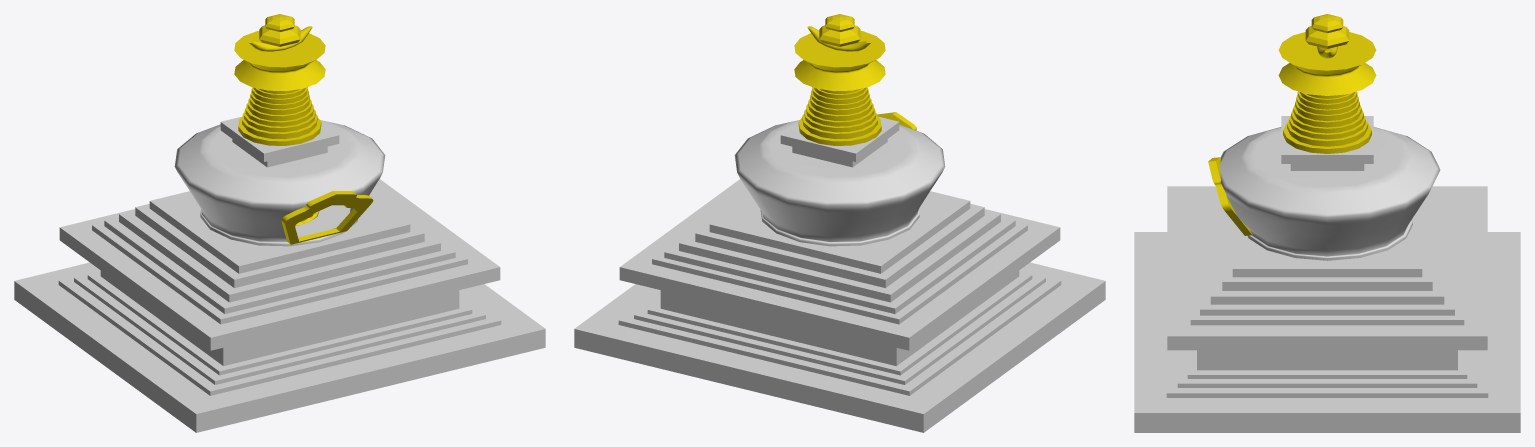
The model's file is fota.fbx.
3 views of the same model, side by side, from view 1: azimuth 30°, elevation 25°; view 2: azimuth 150°, elevation 25°; view 3: azimuth 270°, elevation 25° (orthographic). The views are drawn at different scales.
Parts seen in each view (by area): view 1: pCube1, pCube6, pCylinder2, pCylinder3, pCube2, pCube9, pSphere1; view 2: pCube1, pCube6, pCylinder2, pCylinder3, pCube2, pSphere1; view 3: pCube1, pCube6, pCylinder3, pCylinder2, pCube2, pCube9, pSphere1, pSphere2.
Boxes of the visible parts, left/top/right/bottom form: pCube1: left=14, top=179, right=545, bottom=432; pCube6: left=174, top=120, right=385, bottom=246; pCylinder2: left=238, top=87, right=321, bottom=145; pCylinder3: left=234, top=31, right=325, bottom=91; pCube2: left=220, top=116, right=339, bottom=167; pCube9: left=281, top=191, right=373, bottom=244; pSphere1: left=259, top=25, right=300, bottom=46; pCube1: left=574, top=179, right=1105, bottom=432; pCube6: left=734, top=120, right=945, bottom=246; pCylinder2: left=798, top=87, right=881, bottom=145; pCylinder3: left=794, top=31, right=885, bottom=91; pCube2: left=780, top=116, right=899, bottom=167; pSphere1: left=819, top=25, right=860, bottom=46; pCube1: left=1134, top=186, right=1520, bottom=432; pCube6: left=1220, top=127, right=1440, bottom=260; pCylinder3: left=1278, top=32, right=1376, bottom=95; pCylinder2: left=1283, top=91, right=1371, bottom=153; pCube2: left=1281, top=116, right=1373, bottom=170; pCube9: left=1208, top=157, right=1252, bottom=235; pSphere1: left=1305, top=26, right=1349, bottom=48; pSphere2: left=1311, top=14, right=1343, bottom=32.
Size of the model in its own units: 0.0766 by 0.0641 by 0.0691.
